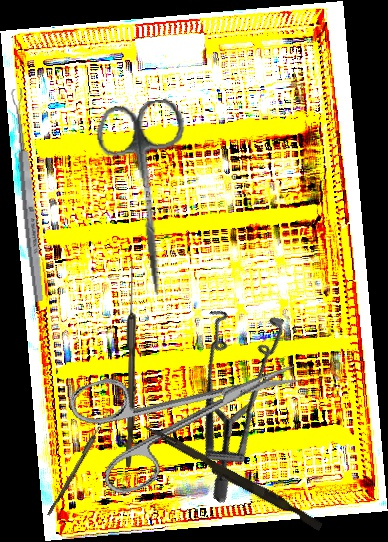Iris Scissors: (65, 321, 317, 502), (92, 97, 205, 300)
Pusher: (139, 423, 326, 531)
Speculum: (119, 280, 342, 505)
Surgical Spoon: (9, 87, 47, 303), (47, 406, 112, 518), (126, 261, 136, 467)
